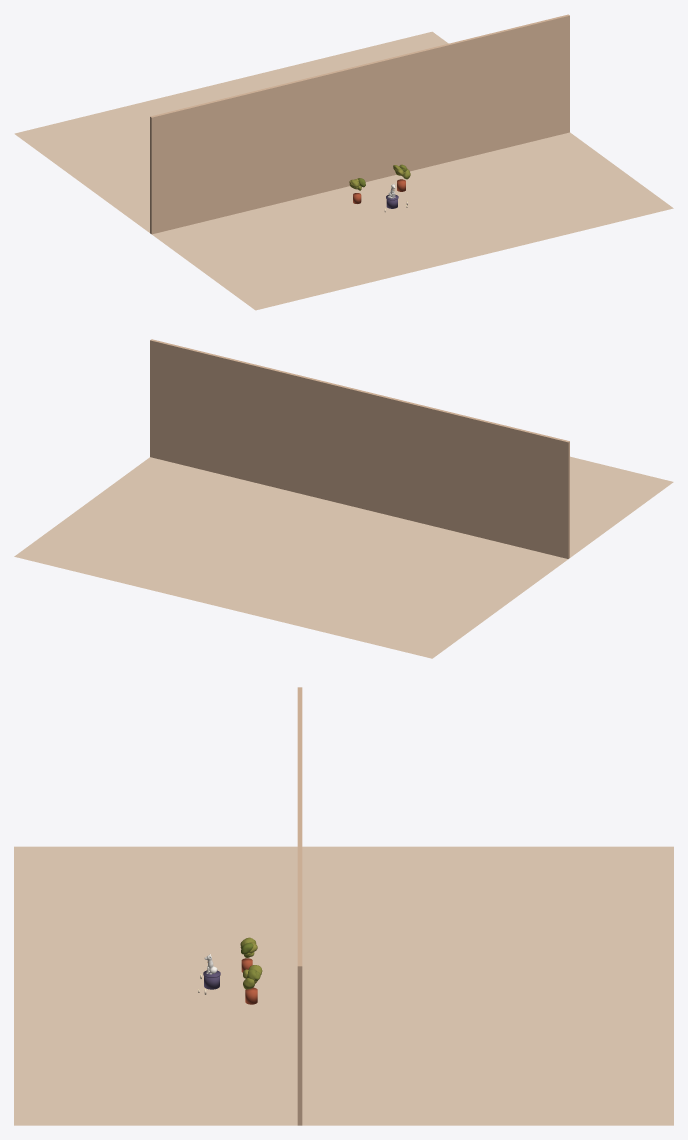
Rendered from sculpture_stylized.glb.
3 renders of one model, top to bottom at view 1: azimuth 30°, elevation 25°; view 2: azimuth 150°, elevation 25°; view 3: azimuth 270°, elevation 25°, orthographic. The views are drawn at different scales.
Parts seen in each view (by area): view 1: environment_3, environment_4; view 2: environment_3, environment_4; view 3: environment_3, environment_4.
Boxes of the visible parts, x1,y1,x2,y2 form: environment_3: (14,31,673,310); environment_4: (150,14,569,234); environment_3: (14,456,673,658); environment_4: (150,339,569,558); environment_3: (14,846,673,1125); environment_4: (297,687,302,1125).
Size of the model in its own units: 30 by 8 by 30.
